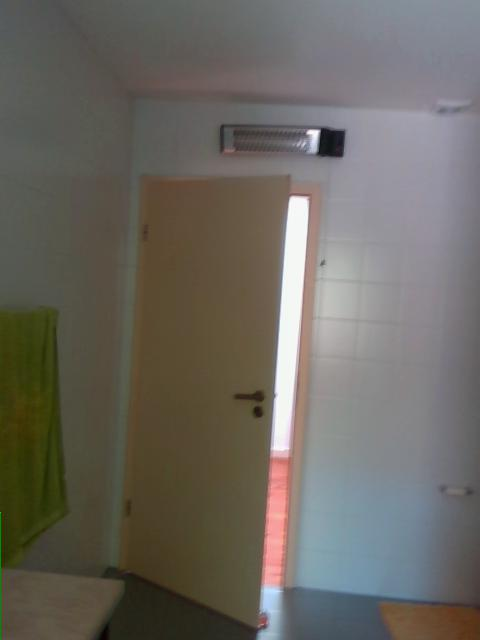semi_door: (117, 170, 323, 633)
